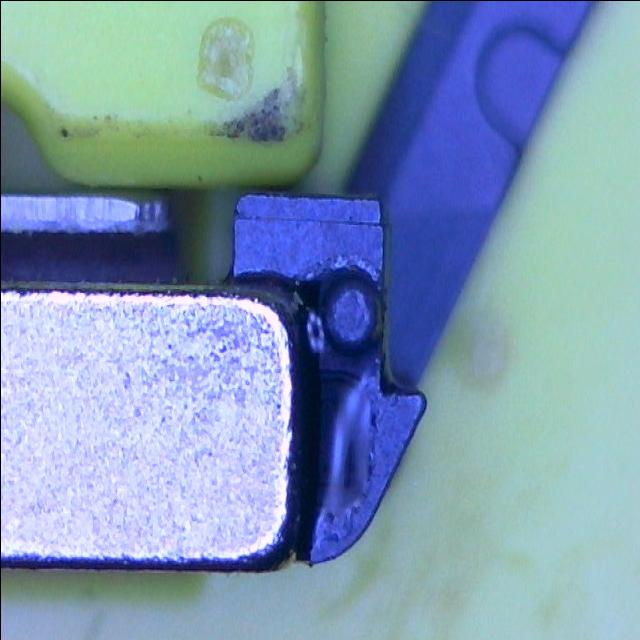over: (310, 366, 374, 519)
